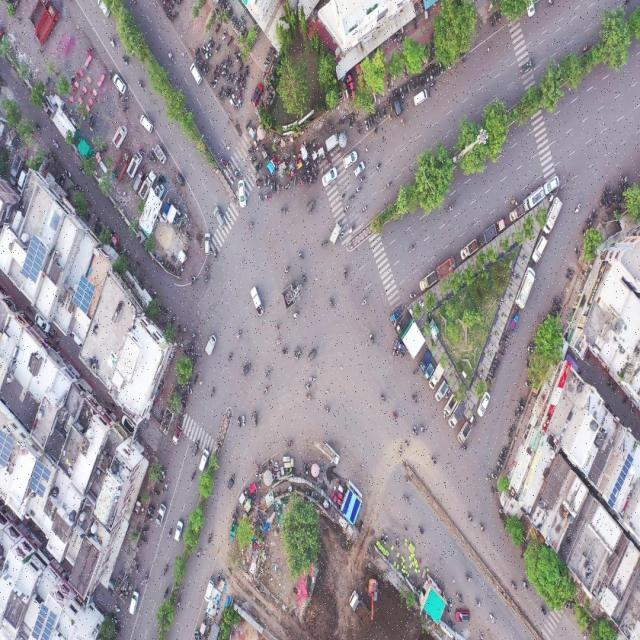3W: (520, 59, 534, 74), (251, 407, 259, 430), (241, 361, 252, 377), (307, 345, 316, 364), (175, 172, 187, 186), (305, 201, 318, 213), (191, 442, 199, 459), (226, 476, 234, 492)
Cars: (531, 235, 548, 264), (476, 390, 492, 420), (138, 115, 156, 136), (543, 176, 560, 197), (413, 86, 429, 108), (238, 178, 248, 212), (188, 63, 203, 85), (213, 207, 226, 232), (250, 84, 264, 107), (322, 168, 337, 188), (129, 591, 141, 616), (391, 89, 401, 118), (342, 152, 358, 169), (174, 519, 185, 543), (113, 74, 126, 93), (98, 0, 111, 18), (454, 610, 471, 623), (200, 449, 209, 471), (353, 161, 365, 177), (205, 578, 213, 601), (204, 232, 211, 256)
LCV: (543, 194, 563, 236), (516, 267, 535, 308), (524, 184, 546, 212), (249, 286, 269, 316), (437, 255, 457, 280), (323, 442, 343, 466), (460, 237, 479, 262), (126, 150, 142, 178), (428, 362, 444, 390), (449, 401, 465, 426), (509, 202, 527, 224), (419, 268, 436, 290), (205, 328, 218, 356), (328, 220, 342, 246), (155, 503, 169, 529), (112, 124, 126, 148), (444, 391, 457, 416), (434, 378, 448, 401), (132, 167, 144, 193), (154, 144, 168, 166), (394, 336, 407, 359), (508, 313, 521, 335), (456, 422, 471, 440), (325, 132, 339, 151), (420, 350, 432, 372), (172, 426, 183, 448), (396, 315, 408, 335), (389, 306, 402, 324), (424, 363, 433, 380)
M2W: (296, 248, 308, 264), (359, 296, 371, 311), (368, 328, 375, 351), (166, 49, 176, 65), (401, 490, 411, 506), (418, 422, 428, 438), (454, 586, 464, 602), (235, 325, 243, 345), (404, 242, 416, 255), (291, 307, 302, 321), (328, 295, 337, 312), (390, 409, 400, 424), (378, 391, 388, 406), (209, 382, 217, 400), (508, 578, 518, 591), (280, 348, 290, 361), (166, 525, 174, 541), (162, 584, 170, 600), (574, 199, 582, 215), (195, 546, 204, 560), (463, 570, 473, 582), (228, 348, 234, 368), (397, 441, 404, 458), (522, 575, 529, 592), (107, 36, 116, 49), (539, 604, 548, 617), (467, 506, 473, 525), (417, 522, 425, 536), (411, 422, 418, 438), (446, 201, 454, 215), (207, 530, 214, 546), (360, 203, 370, 214), (458, 441, 468, 452), (488, 612, 497, 624), (430, 456, 439, 468), (281, 262, 290, 274), (263, 383, 270, 398), (241, 410, 246, 430), (384, 178, 394, 188), (202, 262, 212, 272), (145, 567, 150, 587), (136, 79, 145, 90), (265, 192, 274, 203), (320, 237, 329, 248), (375, 158, 382, 172), (512, 408, 519, 422), (300, 271, 308, 283), (340, 228, 346, 244), (177, 596, 183, 612), (247, 219, 254, 232), (220, 157, 227, 170), (280, 207, 290, 216), (354, 184, 363, 194), (395, 532, 400, 550), (202, 273, 212, 282), (574, 244, 580, 259), (227, 35, 233, 50), (244, 62, 250, 77), (122, 55, 130, 66), (308, 375, 319, 383), (190, 272, 196, 286), (193, 46, 200, 58), (408, 290, 417, 299), (563, 271, 572, 280), (343, 265, 348, 281), (274, 336, 282, 346), (339, 191, 347, 201), (411, 394, 419, 404), (524, 381, 532, 391), (507, 425, 515, 435), (476, 596, 482, 609), (162, 564, 168, 577), (551, 294, 557, 307), (222, 28, 228, 41), (218, 86, 224, 99), (244, 118, 250, 131), (215, 43, 222, 54), (108, 67, 113, 82), (265, 365, 271, 377), (258, 192, 264, 204), (178, 411, 184, 423), (90, 116, 96, 128), (88, 113, 94, 125), (235, 52, 241, 64), (212, 64, 218, 76), (479, 522, 486, 532), (306, 393, 313, 403), (228, 59, 234, 70), (386, 81, 391, 94), (323, 404, 331, 412), (499, 344, 507, 352), (495, 461, 504, 468), (234, 168, 239, 180), (225, 160, 231, 170), (293, 350, 298, 362), (377, 110, 382, 122), (493, 11, 497, 26), (190, 470, 196, 480), (194, 372, 199, 384), (123, 103, 129, 113), (221, 62, 226, 74), (212, 79, 217, 91), (236, 89, 242, 99), (238, 63, 244, 73), (567, 268, 574, 276), (550, 308, 558, 315), (501, 444, 509, 451), (491, 473, 499, 480), (153, 489, 160, 497), (216, 22, 220, 36), (304, 172, 308, 186), (344, 203, 349, 214), (373, 123, 378, 134), (70, 75, 75, 86), (303, 383, 312, 389), (428, 81, 434, 90), (499, 448, 508, 454), (493, 467, 502, 473), (348, 117, 352, 130), (400, 85, 404, 98), (489, 16, 493, 29), (369, 116, 374, 126), (225, 54, 230, 64), (226, 72, 231, 82), (266, 178, 271, 188), (228, 175, 235, 182), (497, 351, 504, 358), (349, 224, 355, 232), (356, 123, 360, 135), (403, 83, 407, 95), (415, 76, 419, 88), (432, 67, 436, 79), (194, 352, 198, 364), (298, 175, 302, 187), (406, 82, 411, 91), (382, 107, 386, 118), (411, 78, 415, 89), (429, 68, 433, 79), (437, 65, 441, 76), (207, 36, 211, 47), (231, 72, 235, 83), (404, 440, 410, 447), (519, 403, 525, 410), (494, 358, 501, 364), (490, 368, 497, 374), (140, 538, 147, 544), (122, 96, 128, 103), (203, 44, 209, 51), (423, 76, 427, 86), (137, 562, 141, 572), (240, 74, 244, 84), (374, 106, 377, 119), (273, 181, 276, 194), (147, 511, 154, 516), (200, 47, 205, 54), (419, 76, 422, 87), (142, 528, 148, 533), (365, 118, 367, 132)
Truck: (34, 4, 57, 42), (349, 590, 370, 629), (111, 149, 133, 185)
